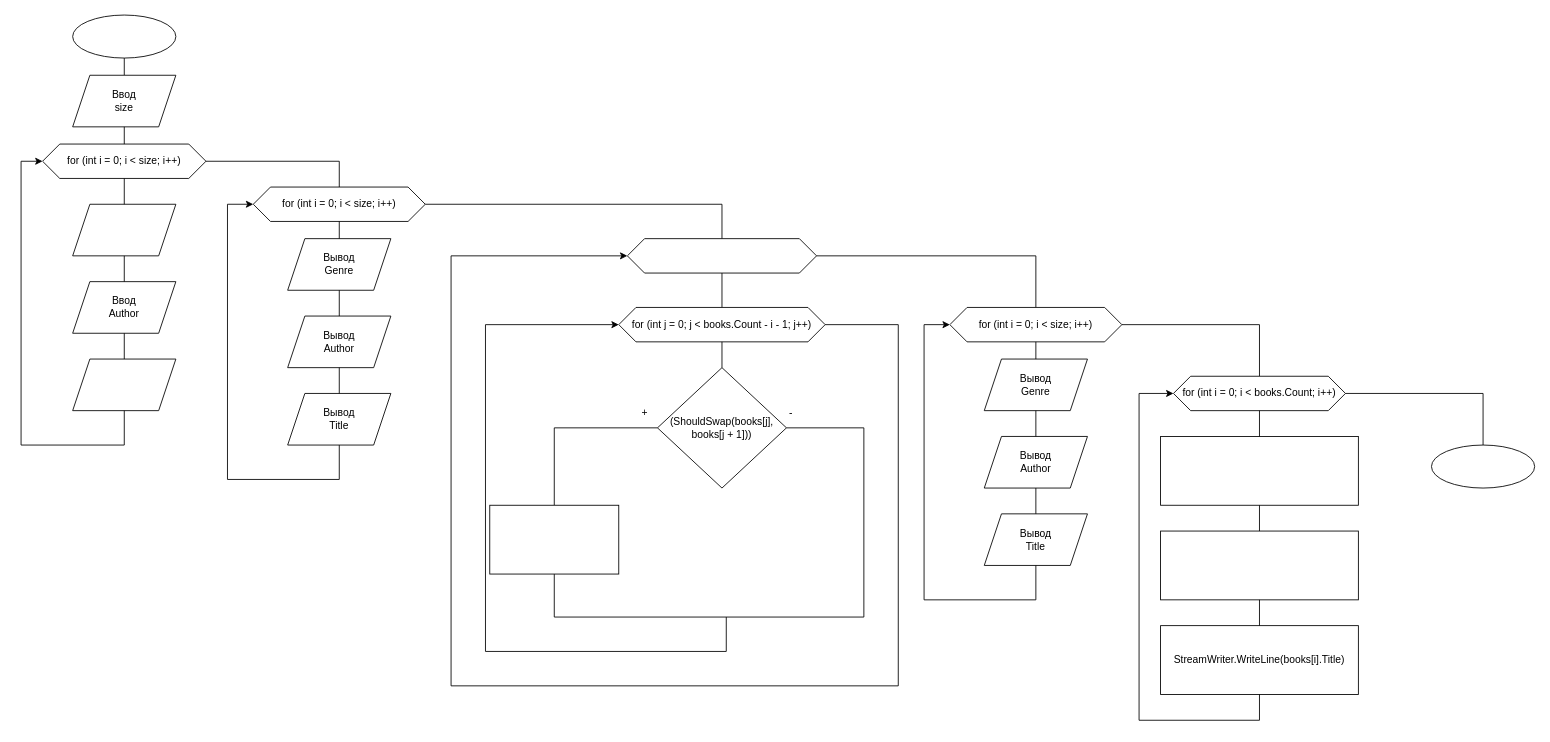
Some shapes in this 1550 by 742 pixel diagram are drawn without their labels. Each missing label, with the box of its shape:
Book temp = books[j]; books[j] = books[j + 1]; books[j + 1] = temp;: (489, 504, 619, 574)
for (int i = 0; i < books.Count - 1; i++): (627, 238, 817, 273)
StreamWriter.WriteLine(books[i].Author): (1160, 530, 1358, 600)
StreamWriter.WriteLine(books[i].Genre): (1160, 436, 1358, 505)
Ввод Genre: (72, 203, 176, 256)
Ввод Title: (72, 358, 176, 411)
Конец: (1431, 444, 1535, 488)
Начало: (72, 14, 176, 58)
